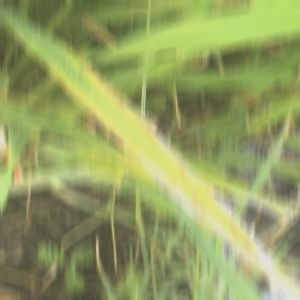Leaf_Blast: (120, 107, 210, 220)
